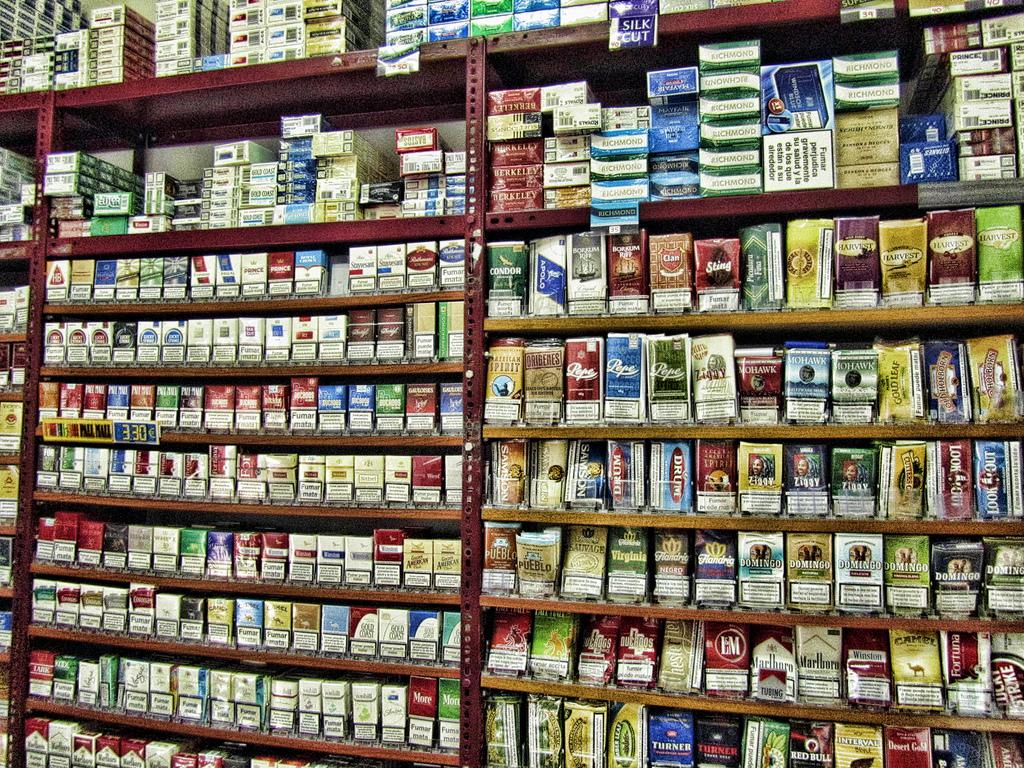lucky_strike_blue: (162, 322, 187, 363), (141, 322, 155, 359)
lucky_strike_red: (66, 325, 89, 361), (94, 322, 113, 363), (45, 325, 64, 363)
marlboro_gold: (798, 627, 843, 699), (49, 727, 70, 765), (149, 748, 168, 768)
marlboro_red: (24, 722, 49, 765), (99, 739, 119, 768), (75, 737, 94, 765), (122, 744, 143, 768)
